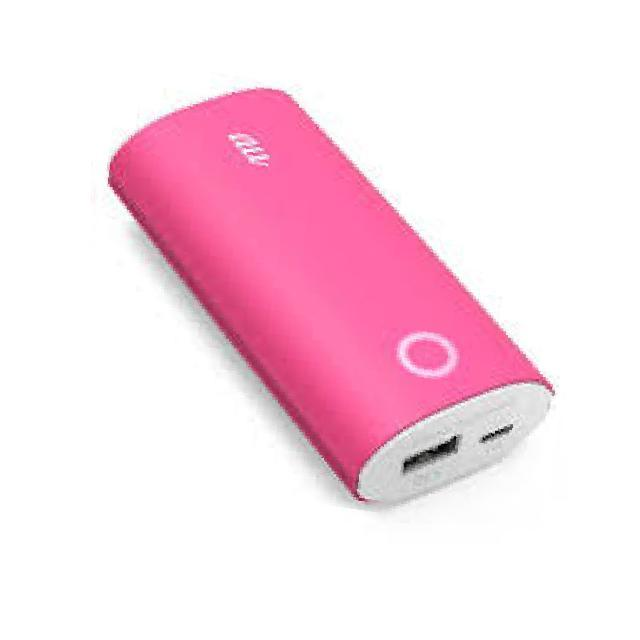Battery: (92, 64, 566, 525)
